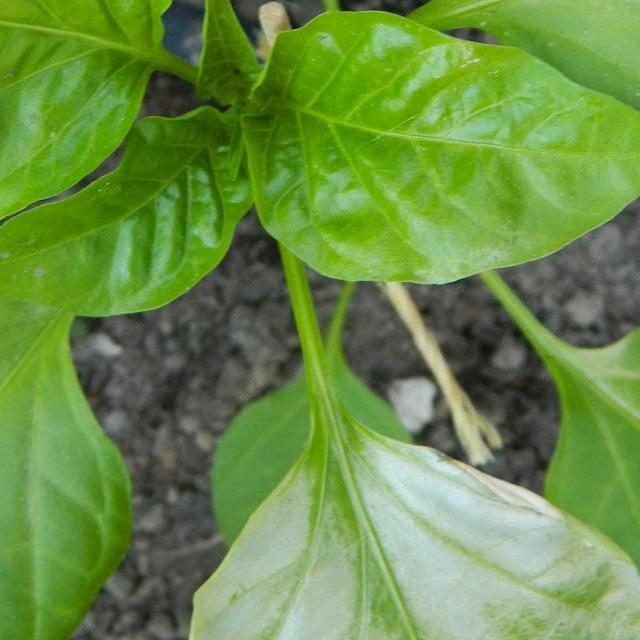Tomato leaf: (0, 139, 226, 640), (251, 17, 640, 292)
